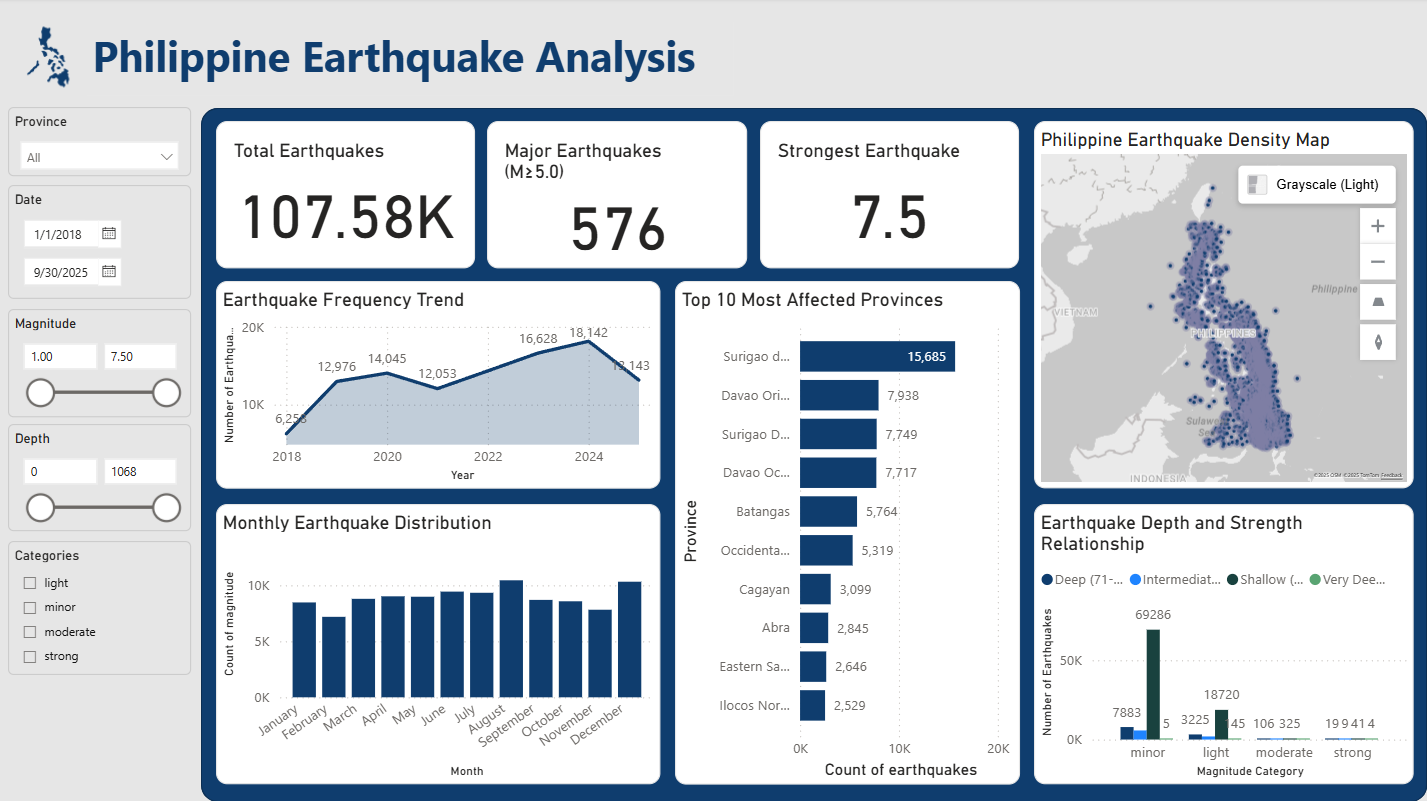

The page's visual inventory and layout, read from the dashboard file:
{"tool":"powerbi","page":{"name":"Dashboard","canvas":[1280,720],"ordinal":0},"visuals":[{"type":"shape","box":[181.9,98.2,1098.1,621.5],"z":0},{"type":"card","title":"Total Earthquakes","fields":{"Values":["CountNonNull(ph_earthquakes_analyzed.magnitude)"]},"box":[195.5,109.9,232.5,132.3],"z":1000},{"type":"card","title":"Major Earthquakes (M≥5.0)","fields":{"Values":["ph_earthquakes_analyzed.Major Earthquakes"]},"box":[438,110,232.7,132],"z":2000},{"type":"card","title":"Strongest Earthquake","fields":{"Values":["ph_earthquakes_analyzed.Strongest Magnitude"]},"box":[682.8,109.9,232.5,132.3],"z":3000},{"type":"lineChart","title":"Earthquake Frequency Trend","fields":{"Category":["ph_earthquakes_analyzed.year"],"Y":["CountNonNull(ph_earthquakes_analyzed.magnitude)"]},"box":[195.6,253.3,397.8,185.6],"z":4000},{"type":"clusteredBarChart","title":"Top 10 Most Affected Provinces","fields":{"Category":["ph_earthquakes_analyzed.province"],"Y":["CountNonNull(ph_earthquakes_analyzed.magnitude)"]},"box":[606.7,253.3,308.9,451.1],"z":5000},{"type":"clusteredColumnChart","title":"Earthquake Depth and Strength Relationship","fields":{"Category":["ph_earthquakes_analyzed.mag_category"],"Y":["CountNonNull(ph_earthquakes_analyzed.magnitude)"],"Series":["ph_earthquakes_analyzed.Depth Category"]},"box":[927.9,453.3,340.4,250.9],"z":6000},{"type":"clusteredColumnChart","title":"Monthly Earthquake Distribution","fields":{"Category":["ph_earthquakes_analyzed.Month Name"],"Y":["CountNonNull(ph_earthquakes_analyzed.magnitude)"]},"box":[195.6,453.3,397.8,251.1],"z":7000},{"type":"azureMap","title":"Philippine Earthquake Density Map","fields":{"X":["ph_earthquakes_analyzed.longitude"],"Y":["ph_earthquakes_analyzed.latitude"]},"box":[927.9,109.9,340.4,328.8],"z":8000},{"type":"slicer","title":"Magnitude","fields":{"Values":["ph_earthquakes_analyzed.magnitude"]},"box":[8.9,278.9,164.4,96.7],"z":9000},{"type":"slicer","title":"Province","fields":{"Values":["ph_earthquakes_analyzed.province"]},"box":[8.9,97.8,164.4,62.2],"z":10000},{"type":"slicer","title":"Date","fields":{"Values":["ph_earthquakes_analyzed.datetime"]},"box":[8.9,167.8,164.4,102.2],"z":11000},{"type":"slicer","title":"Depth","fields":{"Values":["ph_earthquakes_analyzed.depth_km"]},"box":[8.9,381.1,164.4,95.6],"z":12000},{"type":"slicer","title":"Categories","fields":{"Values":["ph_earthquakes_analyzed.mag_category"]},"box":[8.9,486.7,164.4,120],"z":13000},{"type":"textbox","box":[80,21.1,578.9,65.6],"z":14000},{"type":"image","box":[8.9,18.9,71.1,67.8],"z":15000}]}

Visuals, with their boxes in screenshot pixels (x1, y1, x2, y2), scaled from the page's 1280x720 canvas onto the 1427x801 screenshot:
shape: <box>203,109,1426,800</box>
"Total Earthquakes" card: <box>218,122,477,269</box>
"Major Earthquakes (M≥5.0)" card: <box>488,122,748,269</box>
"Strongest Earthquake" card: <box>761,122,1020,269</box>
"Earthquake Frequency Trend" lineChart: <box>218,282,662,488</box>
"Top 10 Most Affected Provinces" clusteredBarChart: <box>676,282,1021,784</box>
"Earthquake Depth and Strength Relationship" clusteredColumnChart: <box>1034,504,1414,783</box>
"Monthly Earthquake Distribution" clusteredColumnChart: <box>218,504,662,784</box>
"Philippine Earthquake Density Map" azureMap: <box>1034,122,1414,488</box>
"Magnitude" slicer: <box>10,310,193,418</box>
"Province" slicer: <box>10,109,193,178</box>
"Date" slicer: <box>10,187,193,300</box>
"Depth" slicer: <box>10,424,193,530</box>
"Categories" slicer: <box>10,541,193,675</box>
textbox: <box>89,23,735,96</box>
image: <box>10,21,89,96</box>
